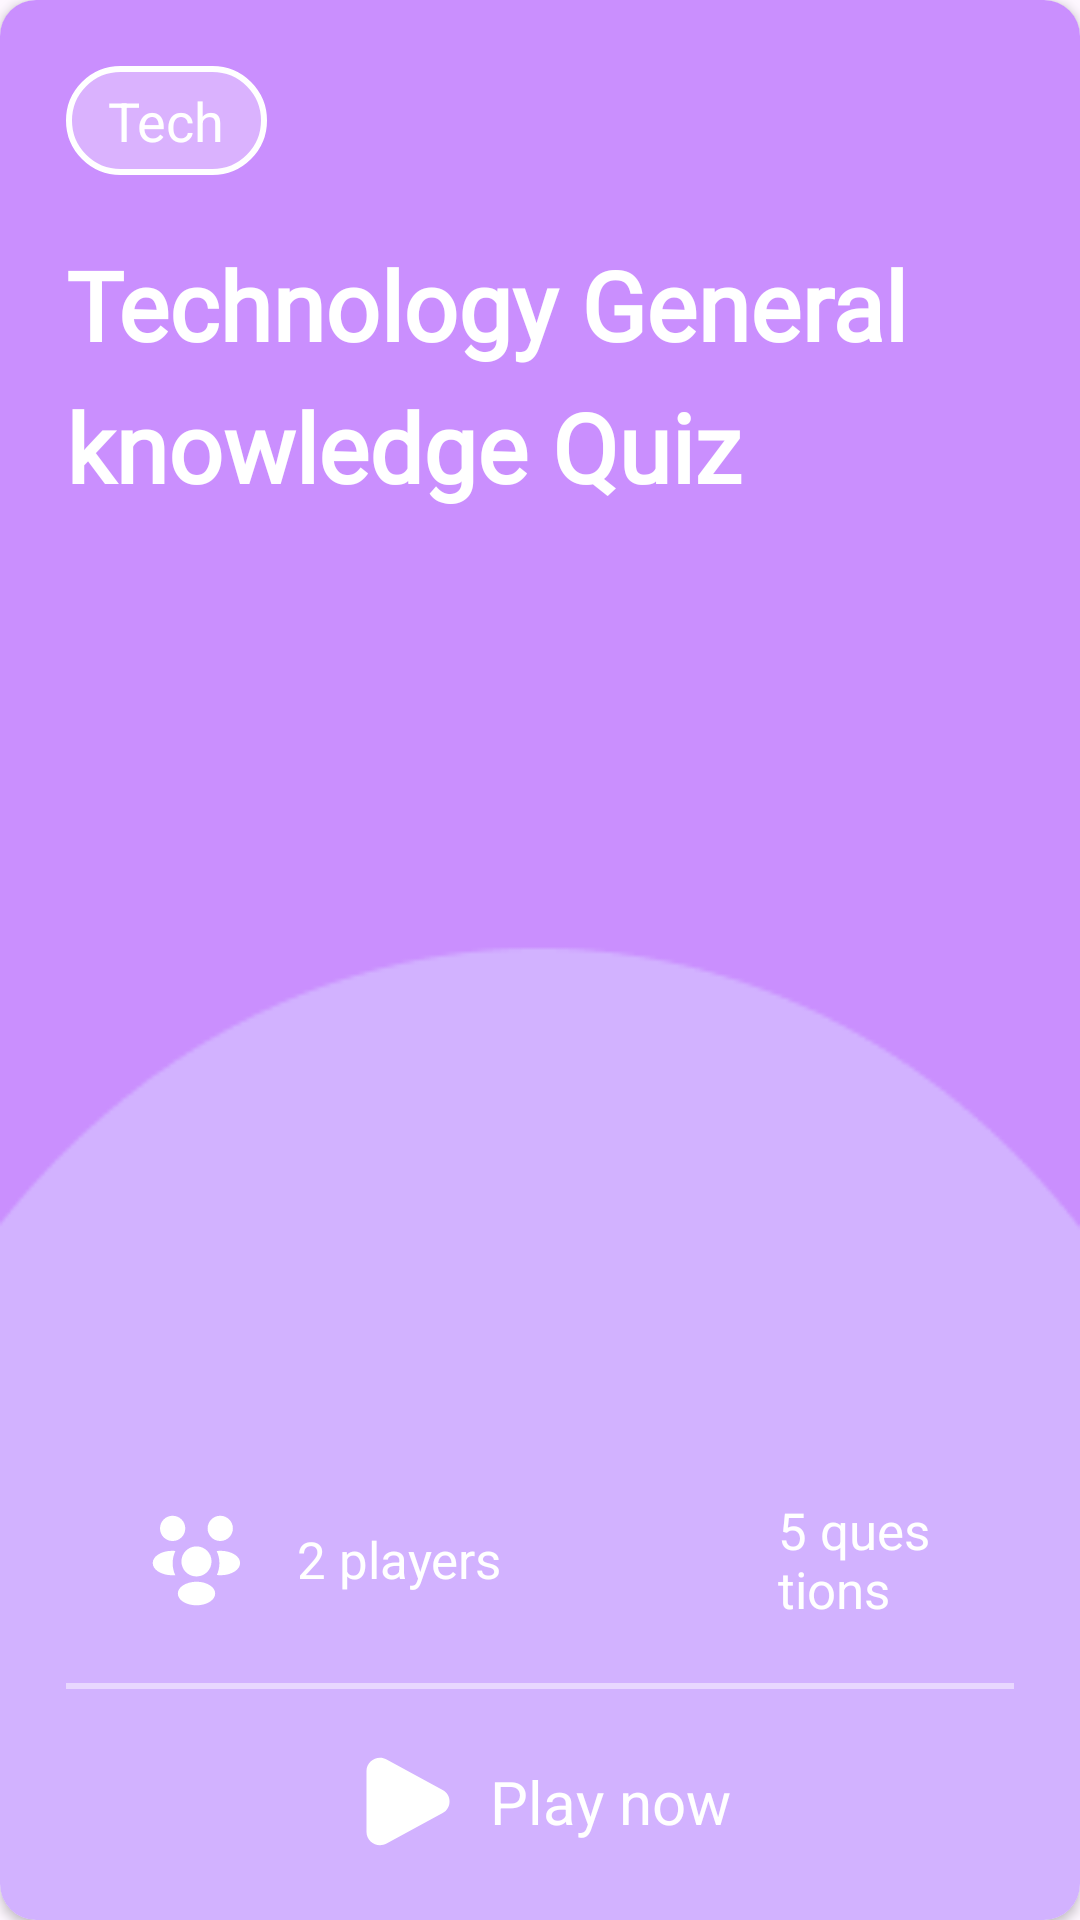

Point at icon controls on the screen. Image size 1080x1920, points as [x,y].
people: [196,1560]
